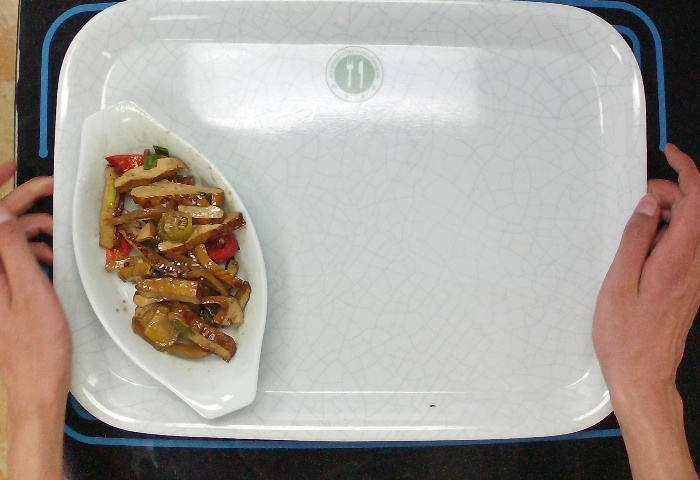JYsf-Yu_Pan: (63, 101, 273, 421)
